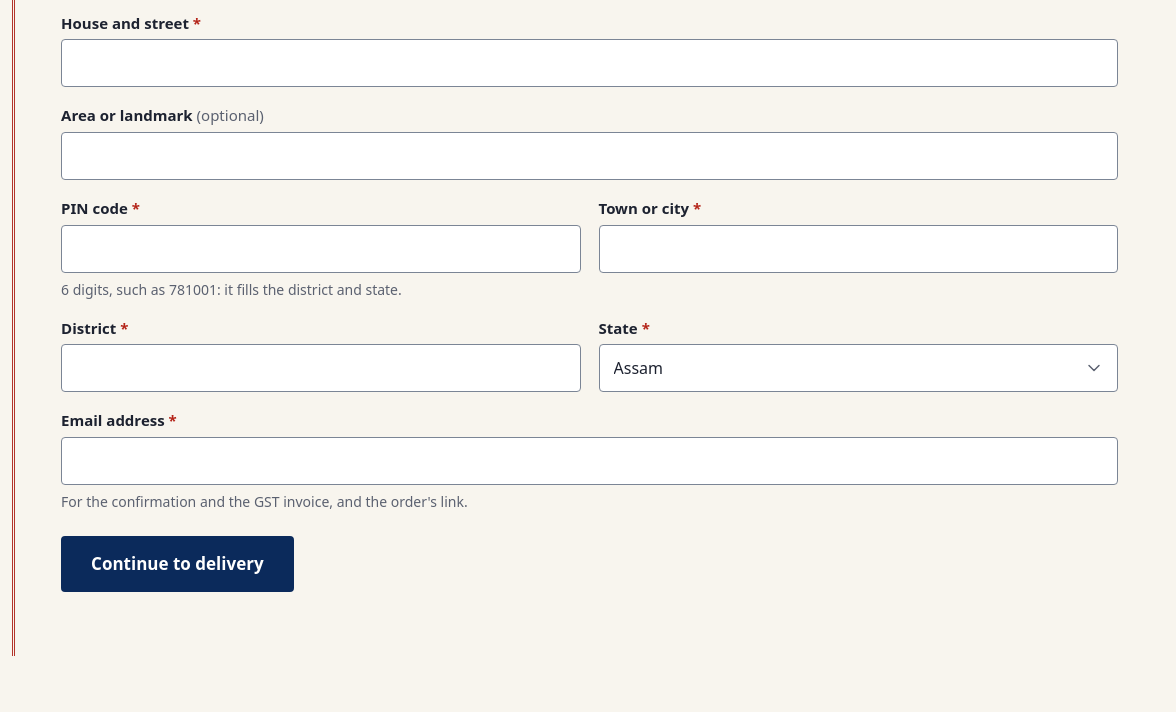
Scenario: the checkout's address step › fills the district and state from a PIN code the directory knows, and says so
(page scrolled)
Step 1. Select "Bihar" in the dropdown labelled "State *" → (858, 368), box 598,344 -> 1118,392
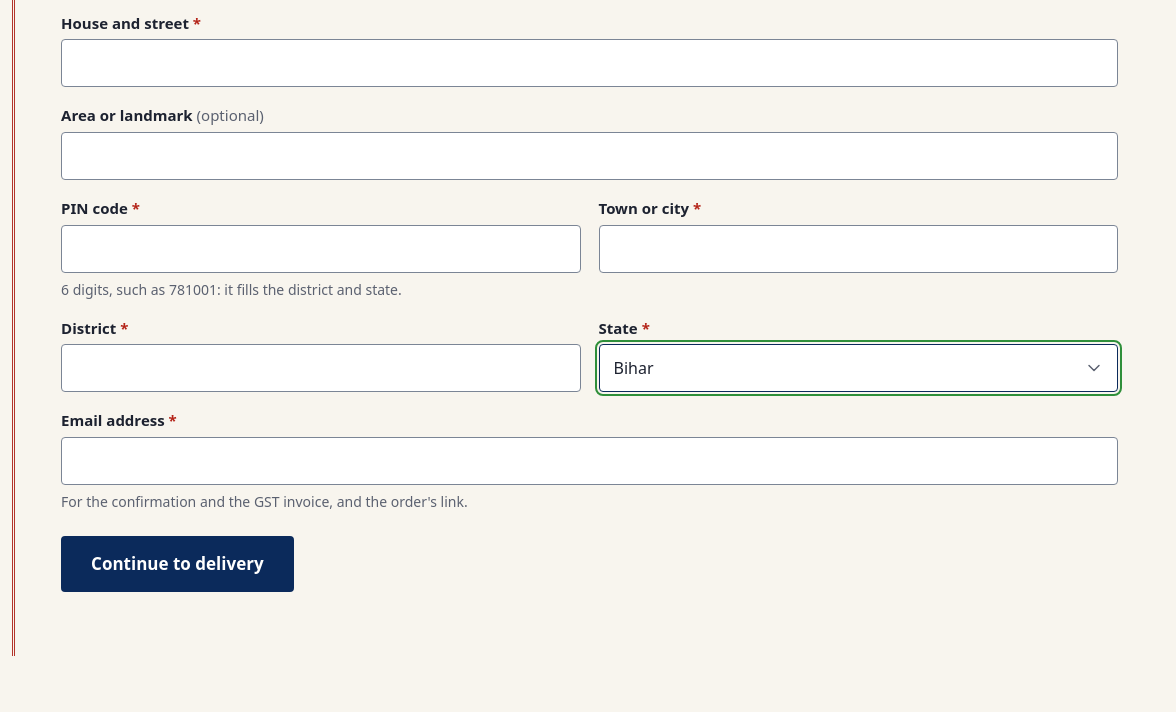
Step 2. Type "781001" into the field labelled "PIN code *" → (321, 249), box 61,225 -> 580,273
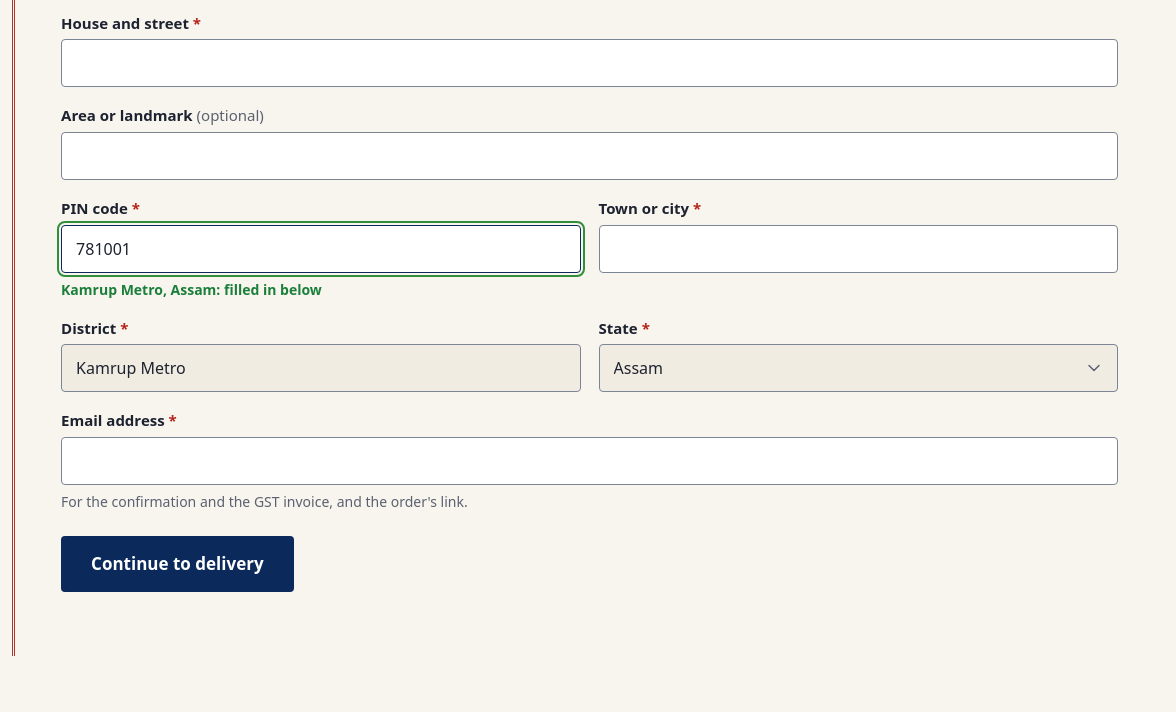
Expected: the text "Kamrup Metro, Assam: filled in below" is shown, 61,280 -> 322,299
Expected: the field labelled "District *" holds "Kamrup Metro", 61,344 -> 580,392
